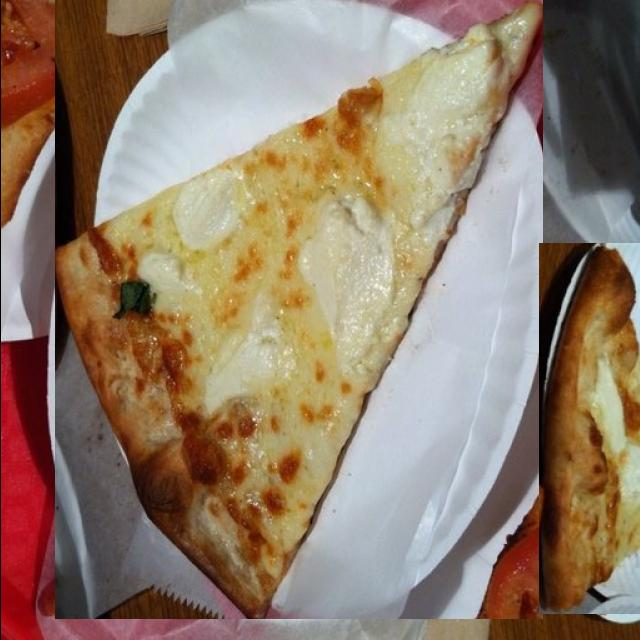basil: (443, 299, 488, 339)
pizza: (54, 0, 542, 619), (538, 243, 640, 614)
